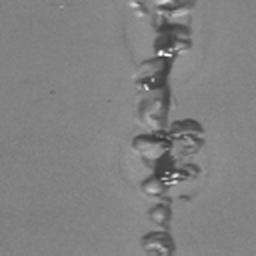Slag inclusion: (131, 0, 207, 253), (177, 195, 192, 202)
